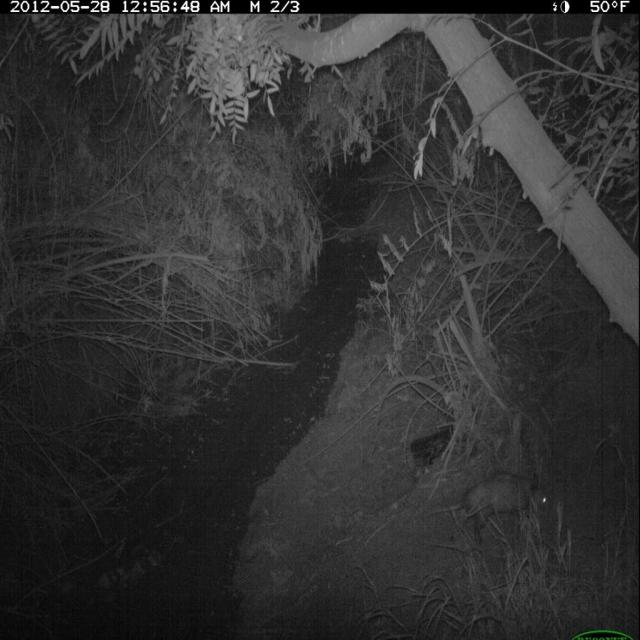opossum: (417, 466, 556, 547)
